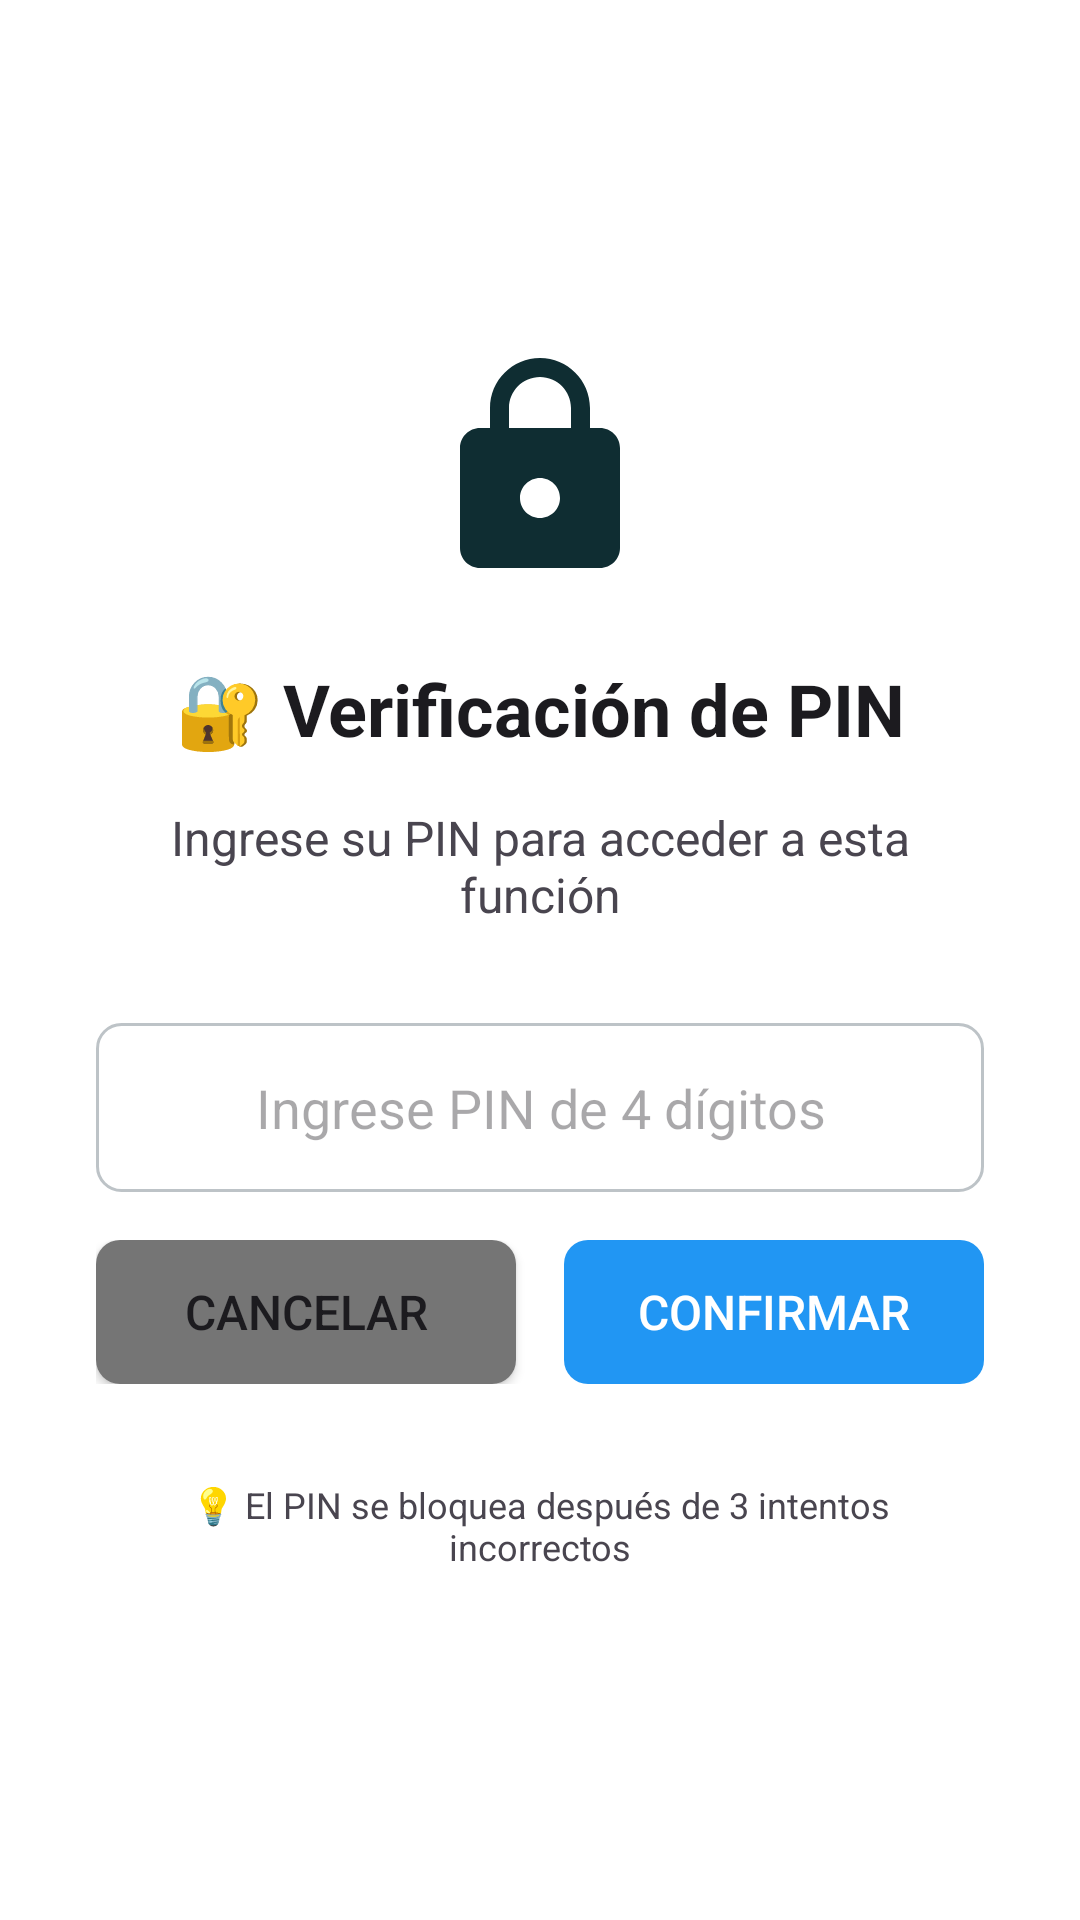

Point at icon controls on the screen. Image size 1080*1920, points as (x,y).
Icono de seguridad: (540,463)
